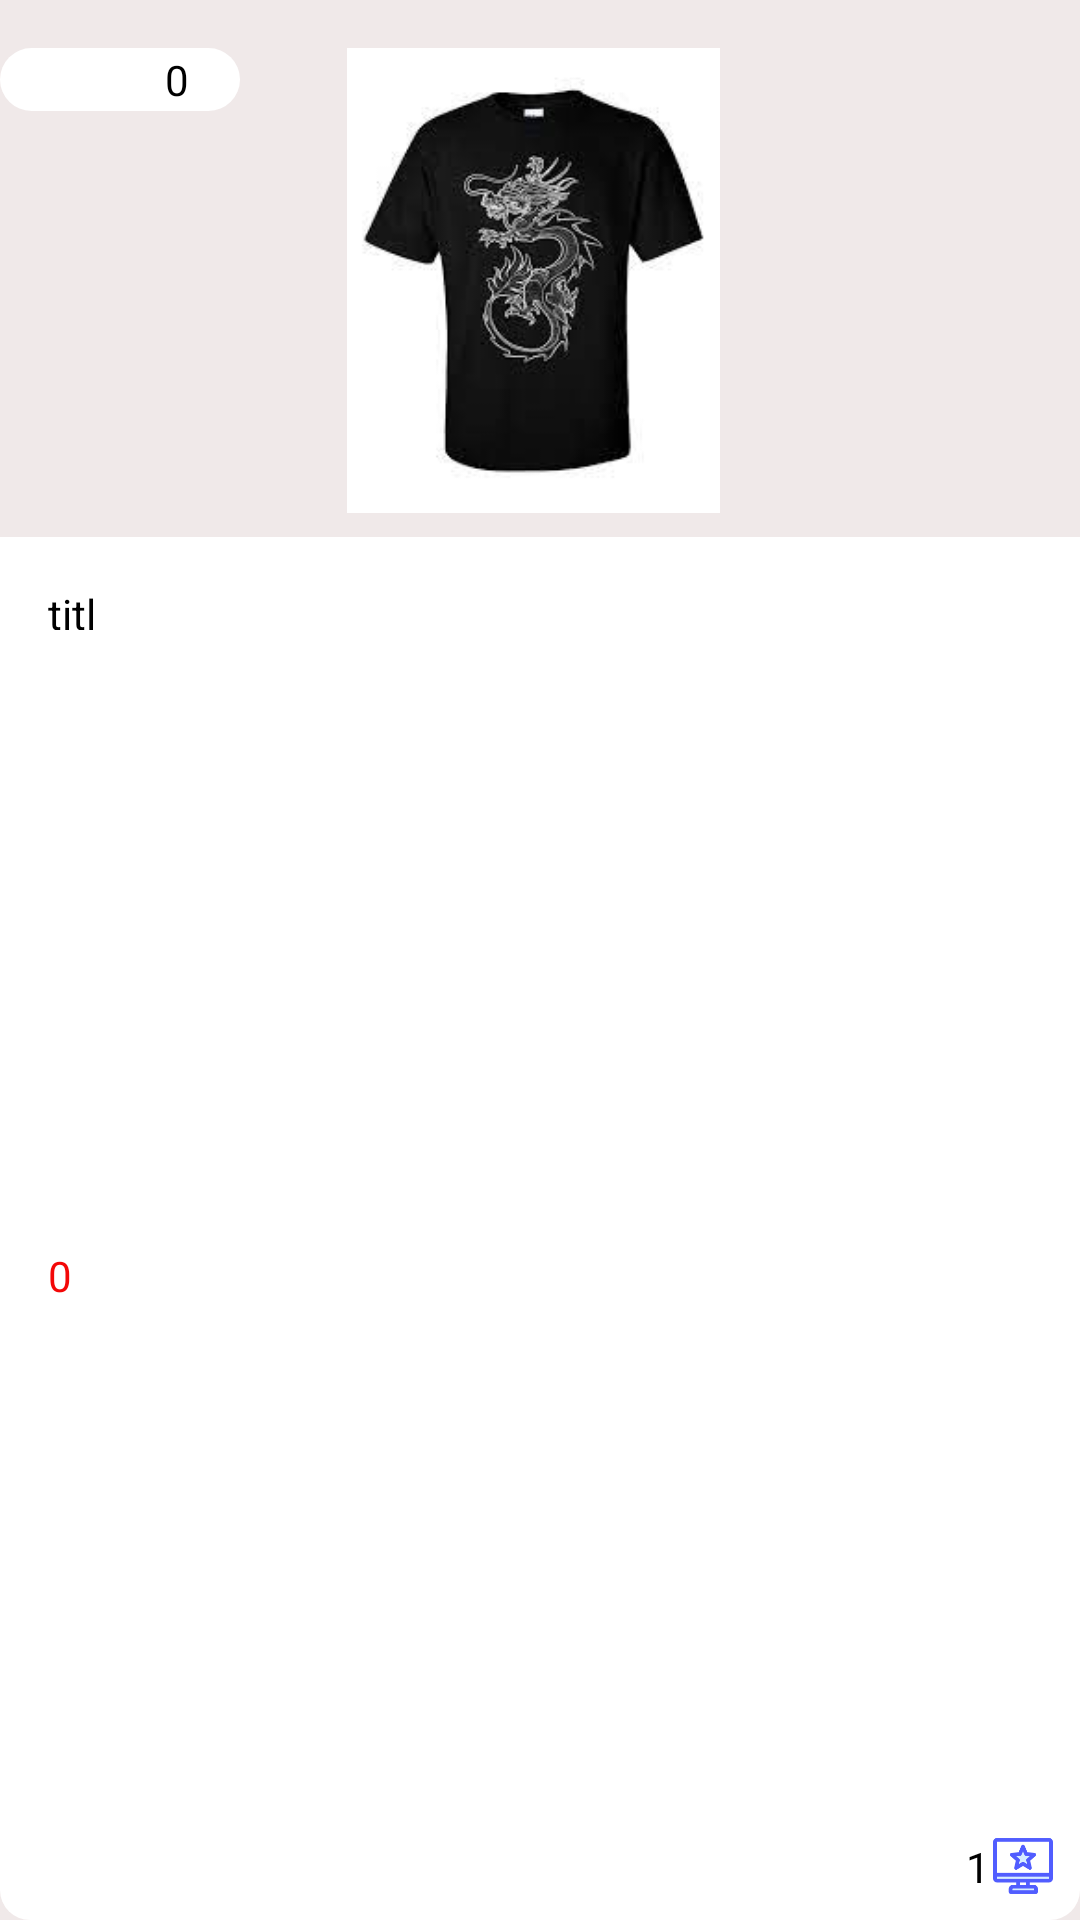

Screen size 1080 x 1920. Icon name, then its box in pixels as (x1, y1, x2, y2):
review: (993, 1838, 1053, 1894)
